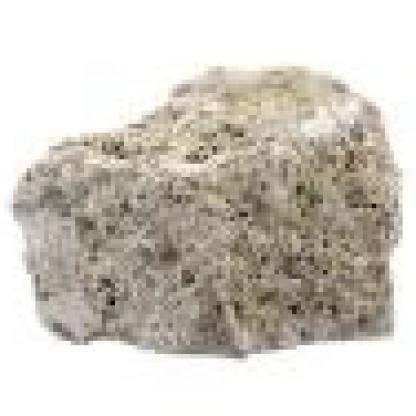Sedimentary_Chalk: (9, 49, 411, 363)
